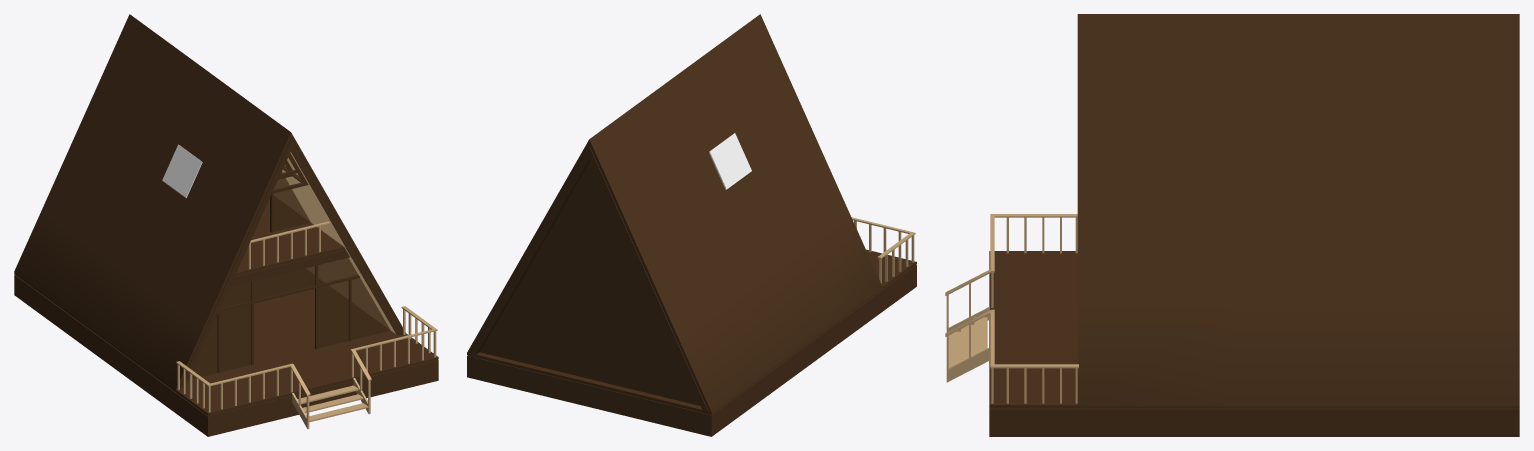
Rendered from woodenhouse.obj.
3 views of the same model, side by side, from view 1: azimuth 30°, elevation 25°; view 2: azimuth 150°, elevation 25°; view 3: azimuth 270°, elevation 25° (orthographic). The views are drawn at different scales.
Parts seen in each view (by area): view 1: woodencabin_Plane, CTRL_Hole; view 2: woodencabin_Plane, CTRL_Hole; view 3: woodencabin_Plane.
Part boxes in pixels (x1,y1,x2,y2): woodencabin_Plane: (14, 14, 438, 436); CTRL_Hole: (162, 144, 202, 197); woodencabin_Plane: (467, 14, 916, 436); CTRL_Hole: (709, 133, 751, 189); woodencabin_Plane: (945, 14, 1519, 436).
Bounding box in the file's own units: 8.25 × 8.69 × 12.99.
